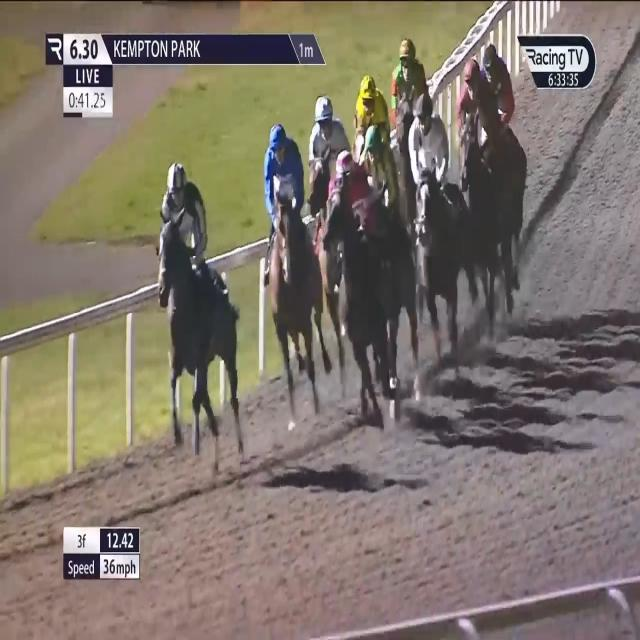horses-racing: (156, 159, 244, 438), (323, 157, 407, 402), (261, 124, 321, 417), (481, 43, 530, 239), (413, 94, 447, 366), (460, 61, 499, 261), (389, 36, 432, 190), (305, 99, 349, 218), (370, 123, 398, 255), (352, 74, 394, 146)
